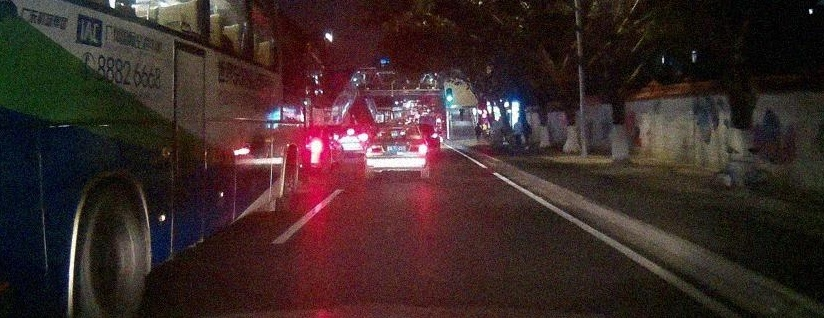L_light: (367, 145, 384, 154)
R_light: (408, 144, 427, 153)
T_light: (393, 129, 403, 132)
night-right: (366, 127, 429, 178)
